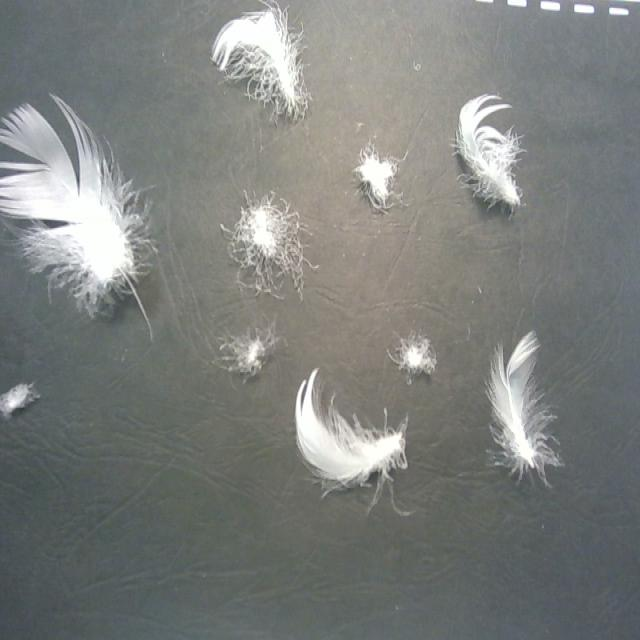feather: (0, 89, 155, 316), (290, 365, 410, 495), (482, 327, 564, 489), (208, 1, 313, 127), (215, 185, 319, 303), (447, 91, 529, 216), (352, 138, 412, 214), (212, 324, 279, 379), (388, 330, 437, 374), (0, 377, 38, 420)
